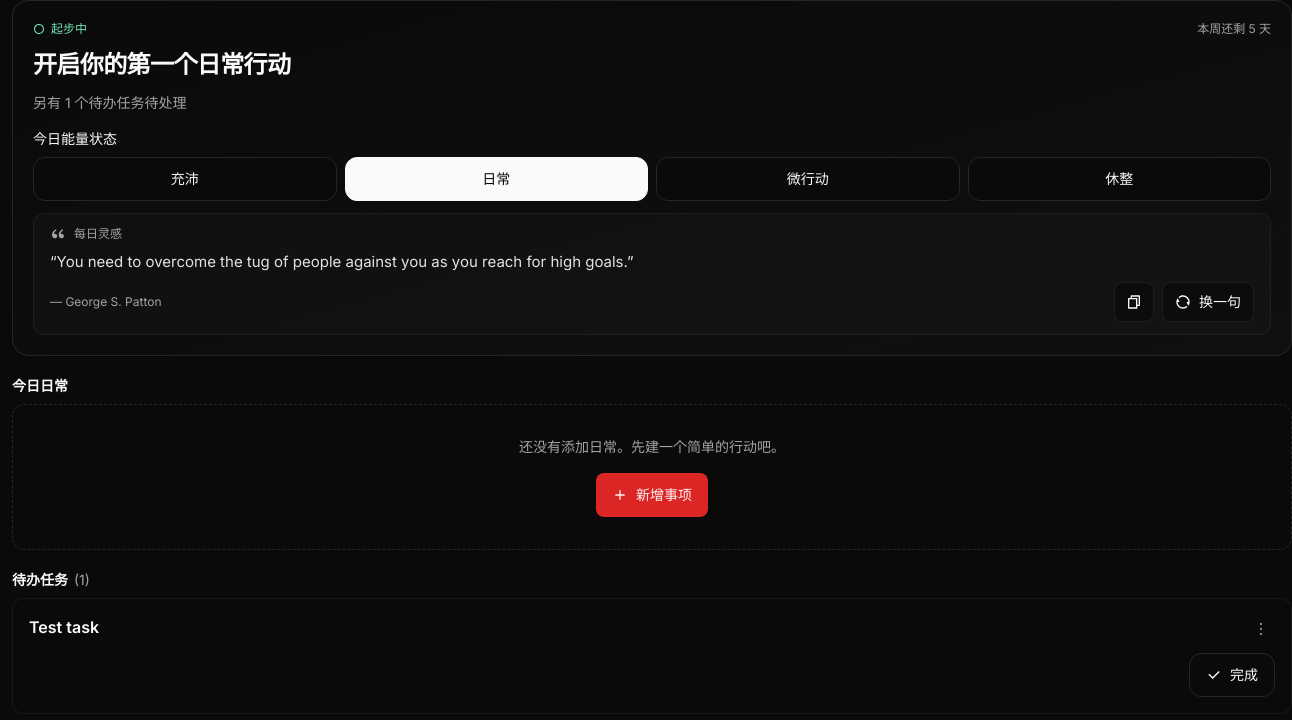
Test: changes energy and filtering together before the request finishes, and rolls both back
Click the button "微行动" at (808, 179), box left=656, top=157, right=960, bottom=201
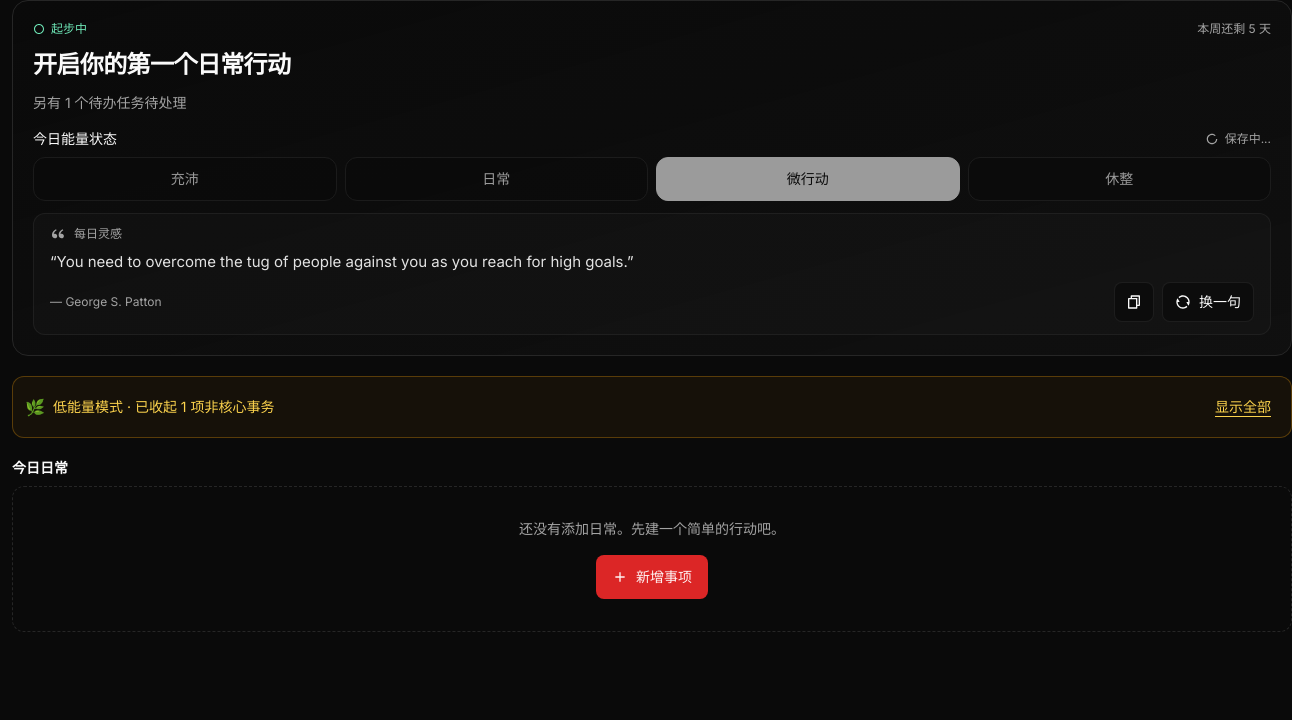
Expected: the link "Test task" is gone
Click the button "显示全部" at (1243, 407), box left=1207, top=385, right=1279, bottom=429
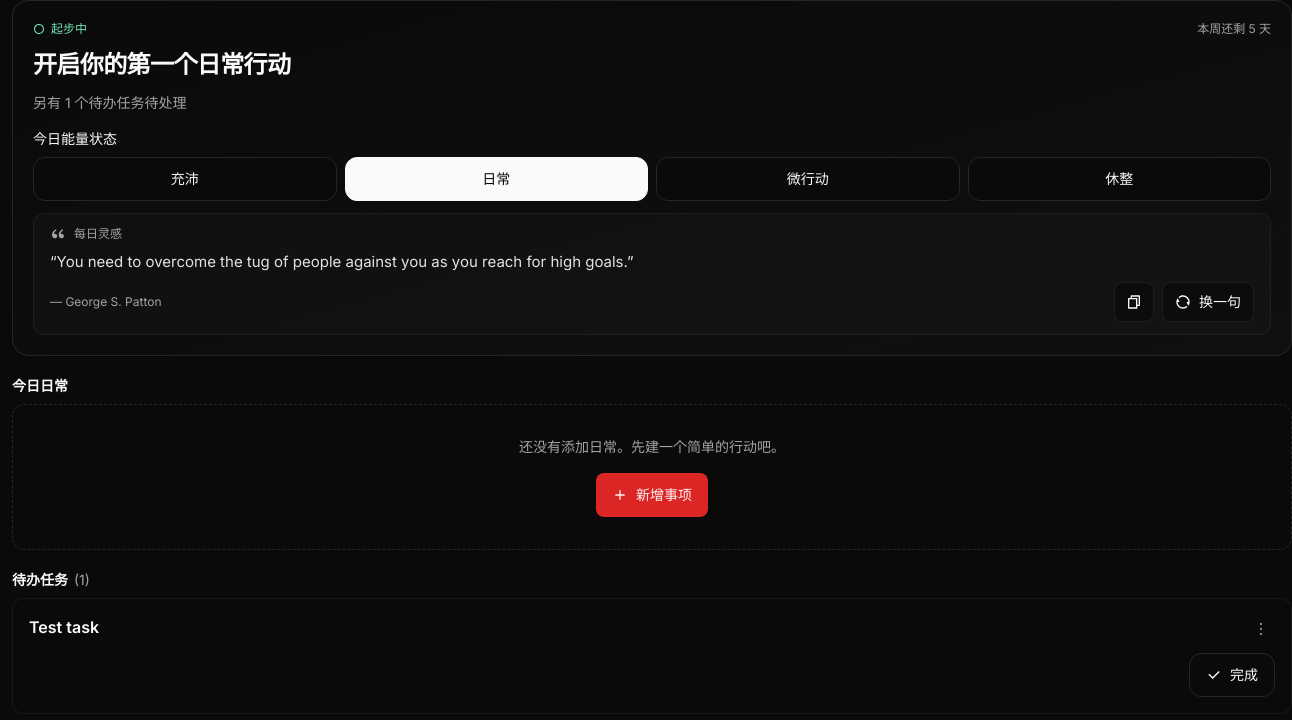
Expected: the link "Test task" is shown, left=29, top=617, right=99, bottom=637
